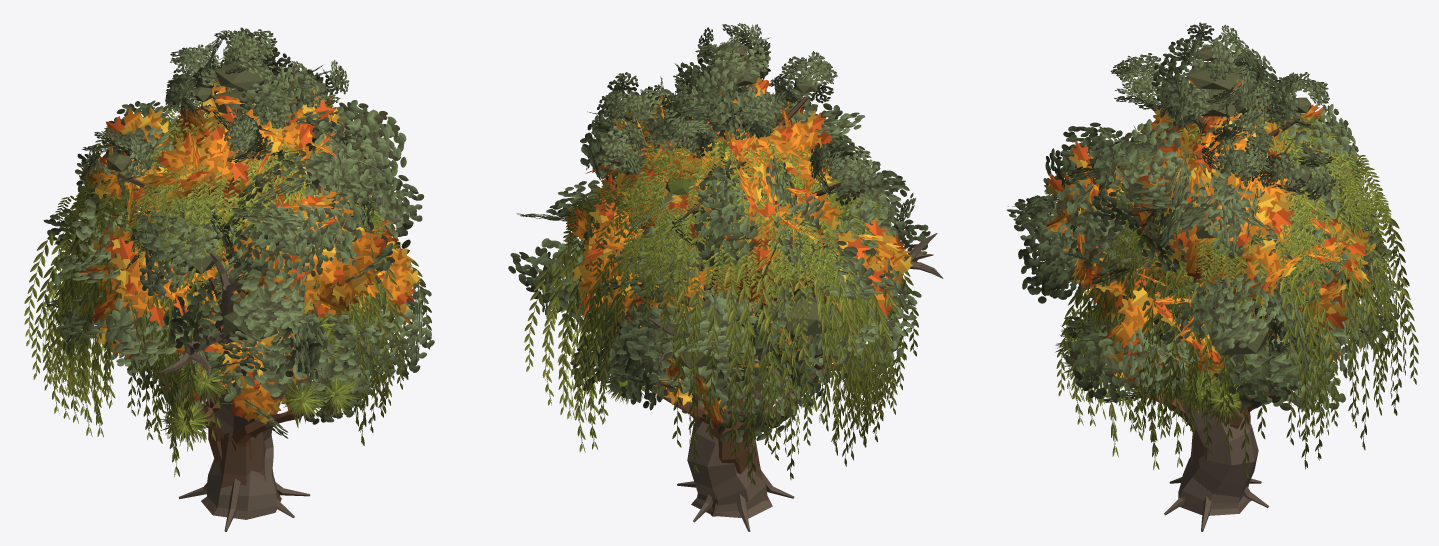
The model's file is groves.glb.
The picture shows the model from 3 angles, left to right: view 1: azimuth 30°, elevation 25°; view 2: azimuth 150°, elevation 25°; view 3: azimuth 270°, elevation 25°; orthographic projection.
Visible parts, largest first — view 1: TreePine2, TreeWillow, TreeMaple, TreeDead, TreeJoshua; view 2: TreePine2, TreeWillow, TreeMaple, TreeDead, TreeJoshua; view 3: TreePine2, TreeWillow, TreeMaple, TreeDead, TreeJoshua.
Boxes of the visible parts, <box> form: TreePine2: <box>43,27,434,507</box>; TreeWillow: <box>24,100,431,476</box>; TreeMaple: <box>77,78,420,424</box>; TreeDead: <box>140,196,400,531</box>; TreeJoshua: <box>138,309,359,458</box>; TreePine2: <box>508,23,930,516</box>; TreeWillow: <box>524,122,918,486</box>; TreeMaple: <box>561,77,912,427</box>; TreeDead: <box>584,176,943,531</box>; TreeJoshua: <box>603,309,878,442</box>; TreePine2: <box>1007,22,1402,501</box>; TreeWillow: <box>1056,111,1418,478</box>; TreeMaple: <box>1043,79,1375,401</box>; TreeDead: <box>1164,211,1391,531</box>; TreeJoshua: <box>1055,318,1329,444</box>.
Size of the model in its own units: 9.91 by 11.41 by 9.49.
13 materials, 4 textured.
